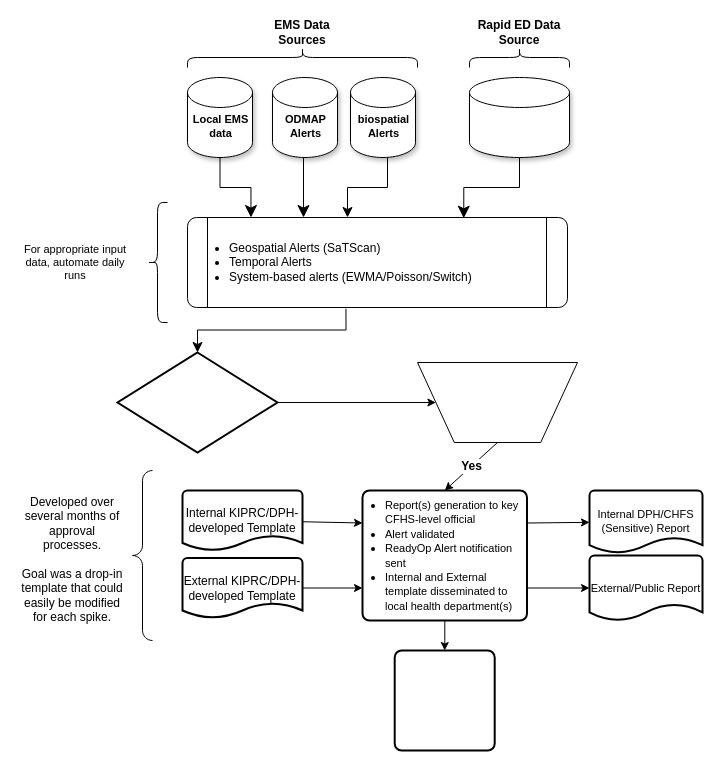
Image size: 720x768. Some labels were removed from this diagram. The centre of each missing label's shape, as x and y in pixels:
Alert Detection: (x=197, y=402)
Manual Epidemiologist review (multi-source confirmation/scale): (x=497, y=402)
REDCap follow up survey link disseminated to local health department(s): (x=444, y=700)
Syndromic Surveillance data (ESSENCE): (x=520, y=118)
